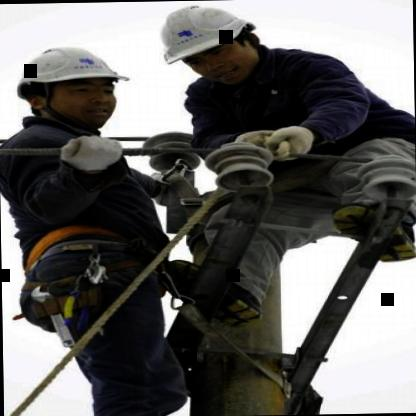helmet: (3, 26, 138, 132), (145, 0, 279, 87)
